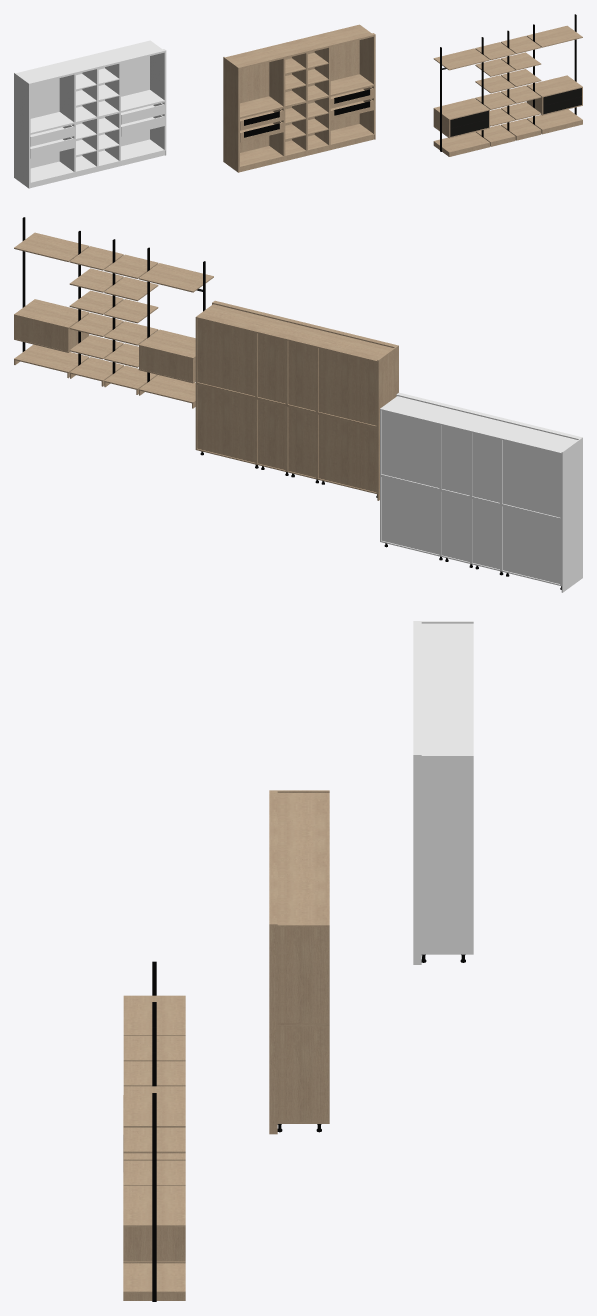
The picture shows the model from 3 angles, top to bottom: view 1: azimuth 30°, elevation 25°; view 2: azimuth 150°, elevation 25°; view 3: azimuth 270°, elevation 25°; orthographic projection. The views are drawn at different scales.
Parts seen in each view (by area): view 1: Layer_object 220, Layer_object 225, HAT 7, HAT 8, HAT 89, HAT 90, B/TET [1] 175, B/TET [2] 192, POM/Csap_E/-5 [1] 196, POM/Csap_E/-5 [9] 189, OLD_J 5, OLD_J 88 (+63 smaller); view 2: HAT 20, HAT 7, HAT 89, HAT 102, HAT 8, HAT 19, HAT 90, HAT 101, Layer_object 225, HAT 76, HAT 131, HAT 132 (+36 smaller); view 3: OLD_J 88, OLD_J 6, OLD_J 18, OLD_J 100, B/TET [1] 175, POM/Csap_E/-5 [9] 189, POM/Csap_E/-5 [1] 196, TET 4, TET 86, TET 85, TET 3, FUG [12] 176 (+14 smaller).
Part boxes in pixels (left/top/right/bottom): Layer_object 220: left=223, top=57, right=239, bottom=172; Layer_object 225: left=14, top=72, right=29, bottom=188; HAT 7: left=240, top=62, right=269, bottom=103; HAT 8: left=330, top=40, right=359, bottom=80; HAT 89: left=30, top=78, right=59, bottom=118; HAT 90: left=121, top=56, right=149, bottom=96; B/TET [1] 175: left=526, top=75, right=582, bottom=97; B/TET [2] 192: left=433, top=98, right=489, bottom=120; POM/Csap_E/-5 [1] 196: left=433, top=48, right=489, bottom=70; POM/Csap_E/-5 [9] 189: left=526, top=25, right=582, bottom=47; OLD_J 5: left=269, top=58, right=284, bottom=106; OLD_J 88: left=150, top=52, right=165, bottom=100; HAT 20: left=197, top=385, right=255, bottom=462; HAT 7: left=318, top=348, right=376, bottom=425; HAT 89: left=502, top=440, right=560, bottom=517; HAT 102: left=381, top=477, right=439, bottom=554; HAT 8: left=197, top=318, right=255, bottom=395; HAT 19: left=318, top=415, right=376, bottom=491; HAT 90: left=381, top=410, right=439, bottom=487; HAT 101: left=502, top=506, right=560, bottom=583; Layer_object 225: left=561, top=437, right=582, bottom=592; HAT 76: left=258, top=333, right=285, bottom=403; HAT 131: left=472, top=499, right=499, bottom=569; HAT 132: left=442, top=492, right=469, bottom=561; OLD_J 88: left=421, top=757, right=473, bottom=853; OLD_J 6: left=277, top=927, right=329, bottom=1022; OLD_J 18: left=277, top=1026, right=329, bottom=1121; OLD_J 100: left=421, top=857, right=473, bottom=952; B/TET [1] 175: left=123, top=1185, right=185, bottom=1227; POM/Csap_E/-5 [9] 189: left=123, top=1086, right=185, bottom=1127; POM/Csap_E/-5 [1] 196: left=123, top=995, right=185, bottom=1035; TET 4: left=277, top=881, right=329, bottom=926; TET 86: left=421, top=712, right=473, bottom=757; TET 85: left=421, top=623, right=473, bottom=667; TET 3: left=277, top=793, right=329, bottom=836; FUG [12] 176: left=123, top=1227, right=185, bottom=1261.
Size of the model in its own units: 1.07 by 0.2221 by 0.336.
Materials: 11 (5 with a texture image).
